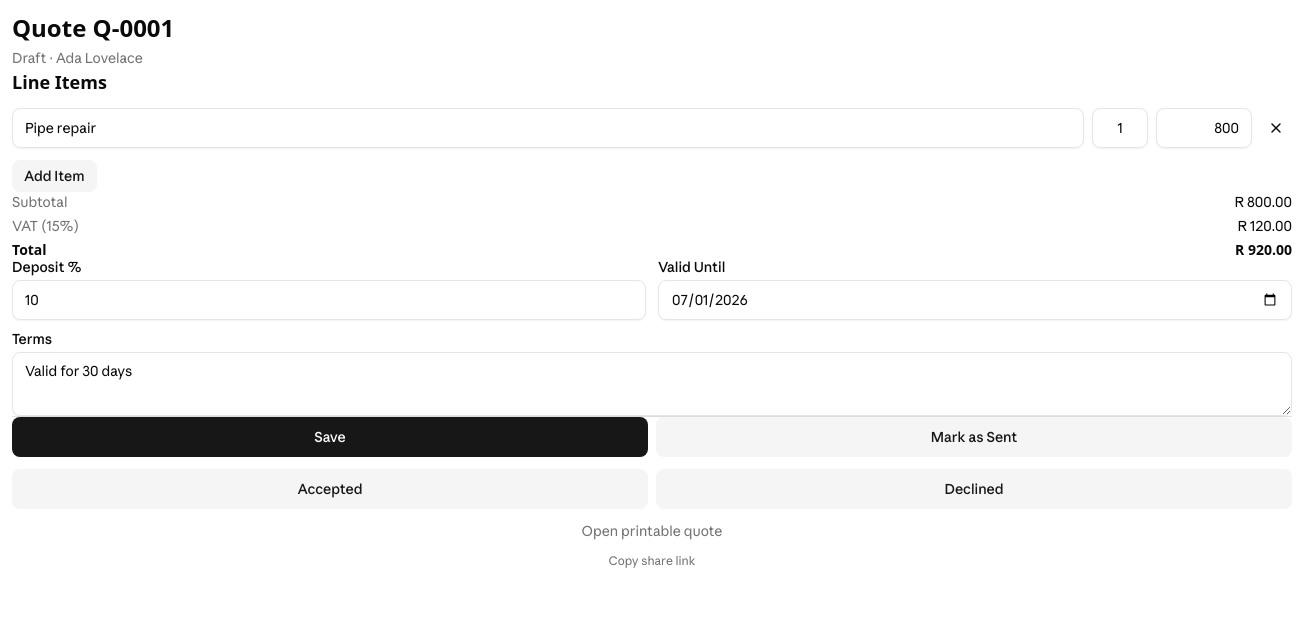
Test: QuoteEditorClient › shows the Create Invoice action only once the quote is accepted
Expected: the button "create invoice from quote" is not shown
What coordinates should you click on to do the following:
click the button "Accepted"
I would click on:
 (330, 489)
Its box is x1=12 y1=469 x2=648 y2=509.
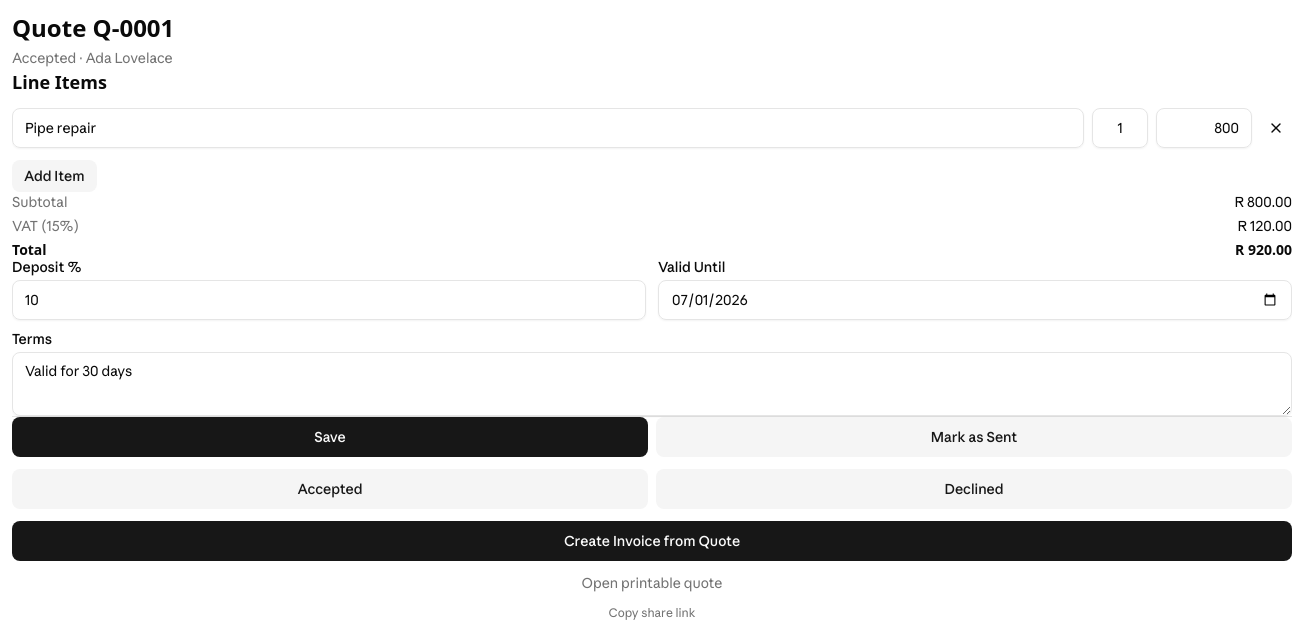
Result: the button "Create Invoice from Quote" is shown at x1=12 y1=521 x2=1292 y2=561
